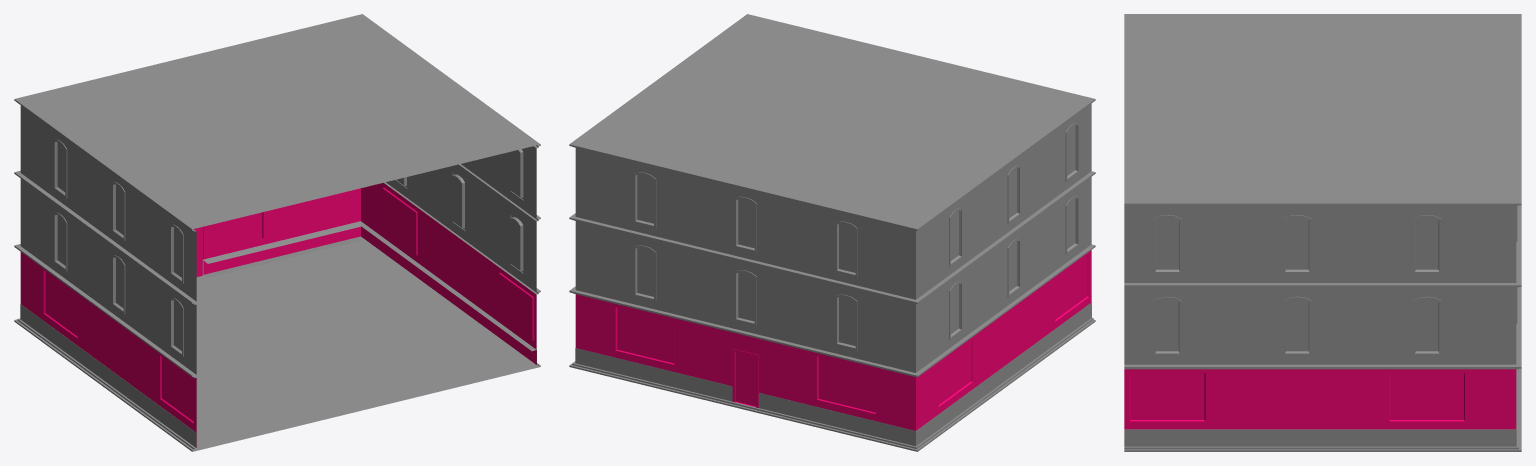
File: Home_1.FBX
3 views of the same model, side by side, from view 1: azimuth 30°, elevation 25°; view 2: azimuth 150°, elevation 25°; view 3: azimuth 270°, elevation 25° (orthographic). The views are drawn at different scales.
Visible parts, largest first — view 1: home_1; view 2: home_1; view 3: home_1.
Part boxes in pixels (x1,y1,x2,y2): home_1: [14, 14, 540, 451]; home_1: [569, 14, 1095, 451]; home_1: [1124, 14, 1521, 451].
Size of the model in its own units: 13.17 by 8.04 by 11.67.
